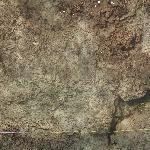dead: (5, 4, 145, 146)
